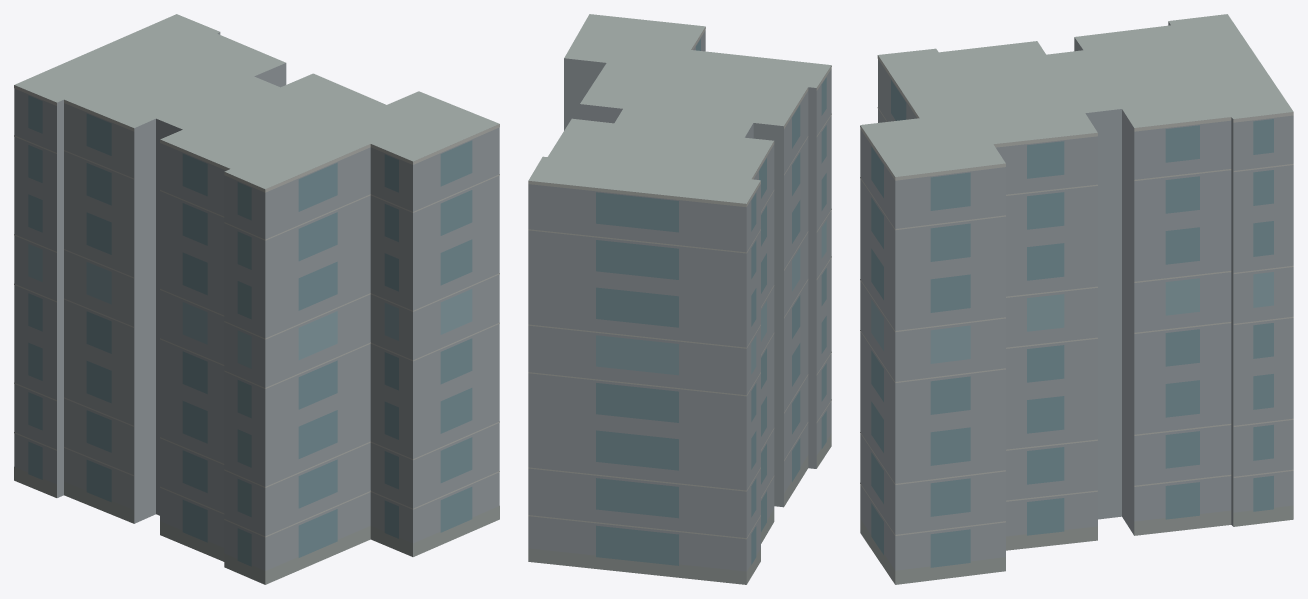
The model's file is survey-upis-32661483.glb.
3 renders of one model, left to right at view 1: azimuth 30°, elevation 25°; view 2: azimuth 150°, elevation 25°; view 3: azimuth 270°, elevation 25°, orthographic. The views are drawn at different scales.
Visible parts, largest first — view 1: survey-upis-32661483.tmp; view 2: survey-upis-32661483.tmp; view 3: survey-upis-32661483.tmp.
Part boxes in pixels (<box>): survey-upis-32661483.tmp: <box>14,14,499,584</box>; survey-upis-32661483.tmp: <box>528,14,831,584</box>; survey-upis-32661483.tmp: <box>860,14,1293,584</box>.
Size of the model in its own units: 23.62 by 27.5 by 26.52.
